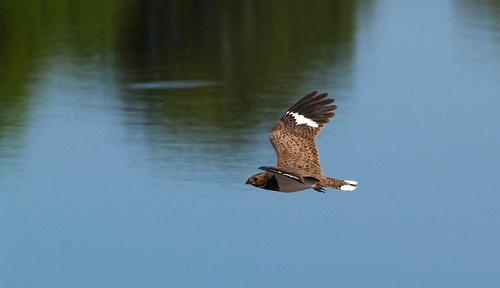bird: (245, 91, 359, 198)
